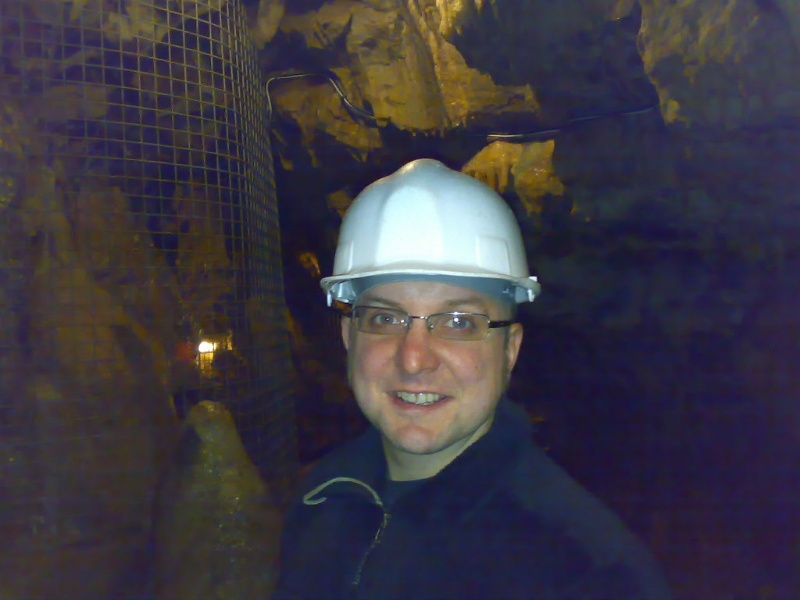Baret: (320, 156, 539, 301)
